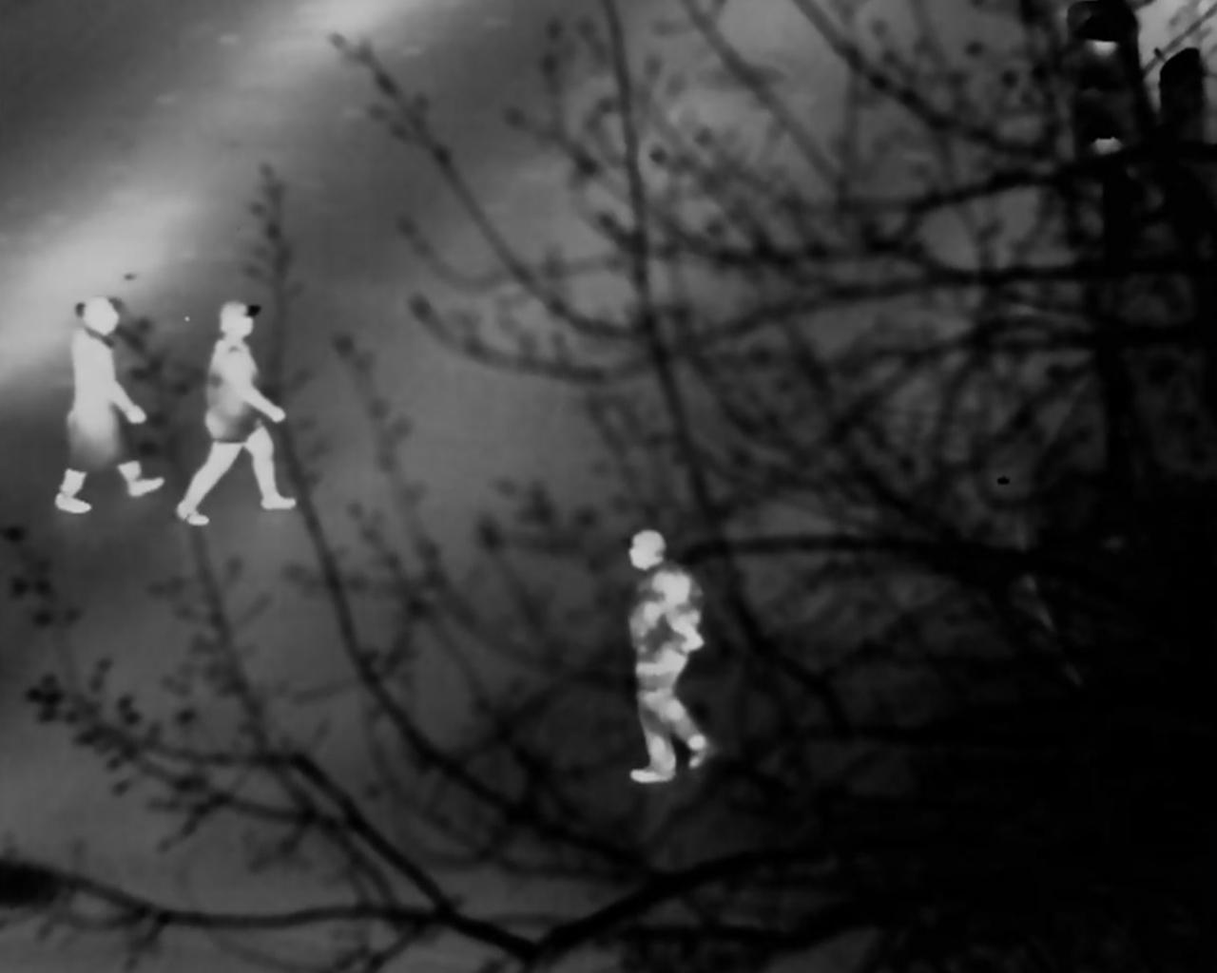person: (184, 295, 311, 533), (50, 302, 176, 521), (628, 515, 724, 795)
